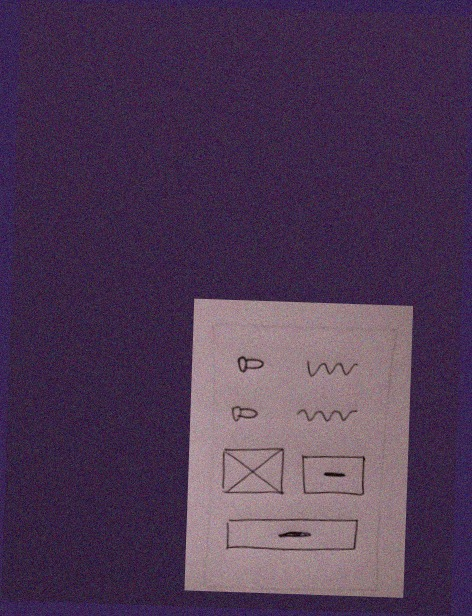button: (221, 515, 362, 561), (297, 451, 372, 502)
image: (218, 444, 289, 501)
switch: (233, 351, 269, 381), (227, 400, 262, 429)
text: (292, 402, 361, 431), (301, 354, 363, 382)
